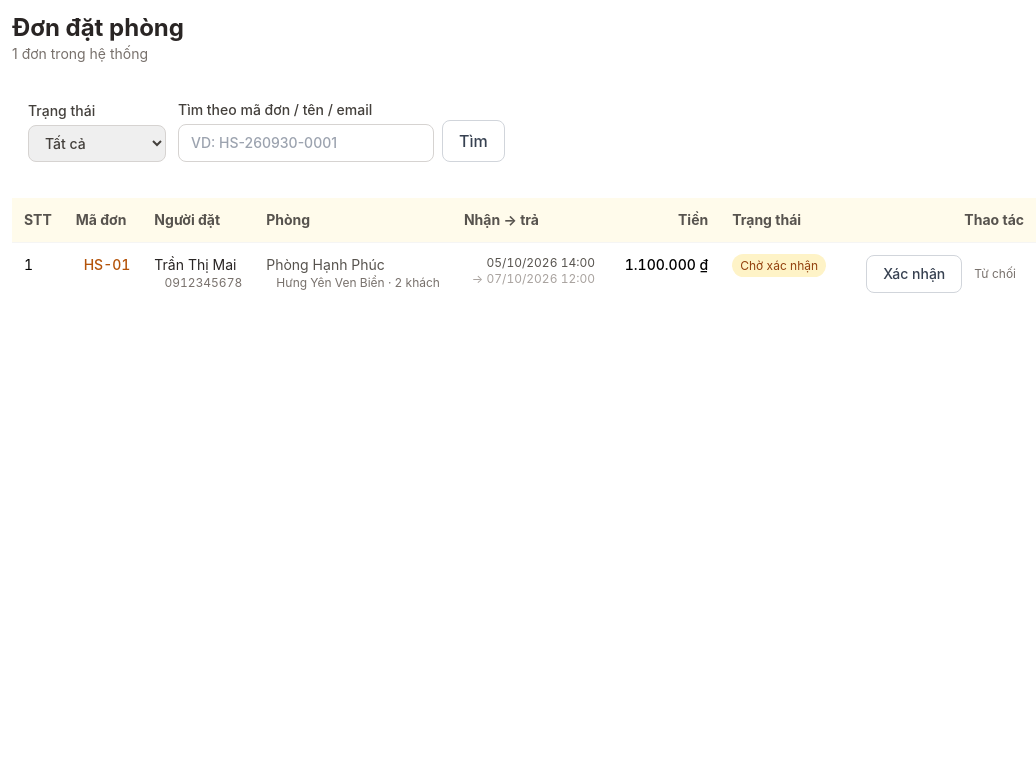
Test: AdminBookings - tu choi don › ApiThatBai_HienLoiVaGiuNguyenDanhSach
Expected: the text "HS-01" is shown, [64,242,142,305]
Click the button "Từ chối": (995,274) [966,255,1024,293]
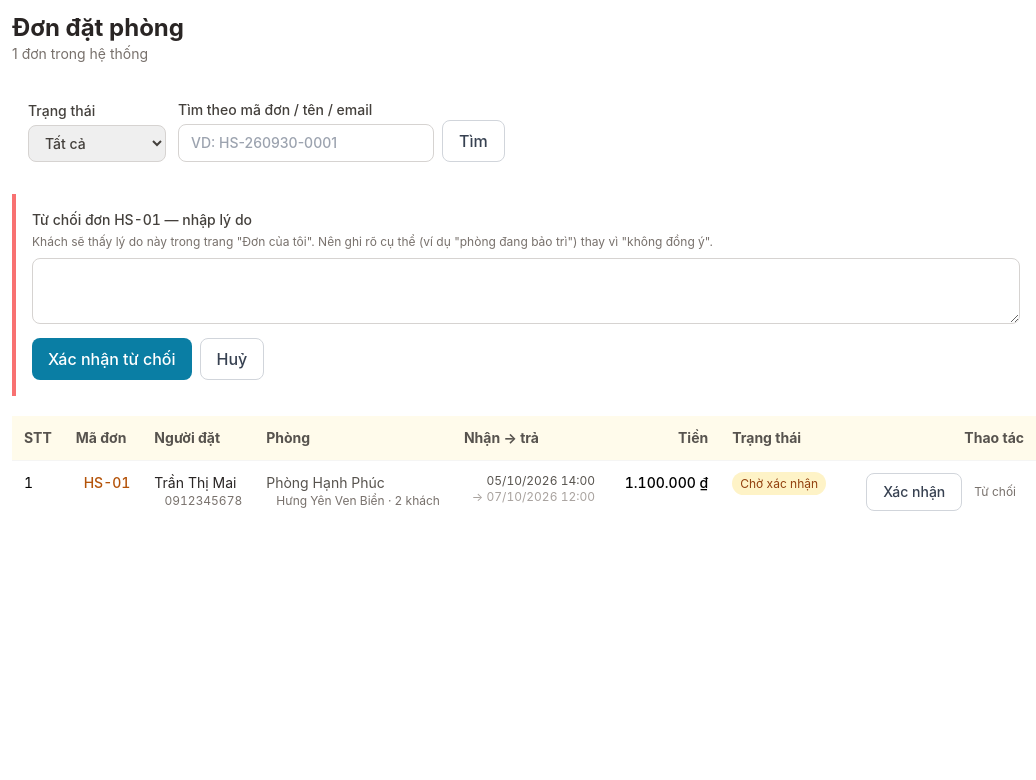
In the text box named "Lý do từ chối": (526,291) [32,258,1020,324], type "Phòng bảo trì"
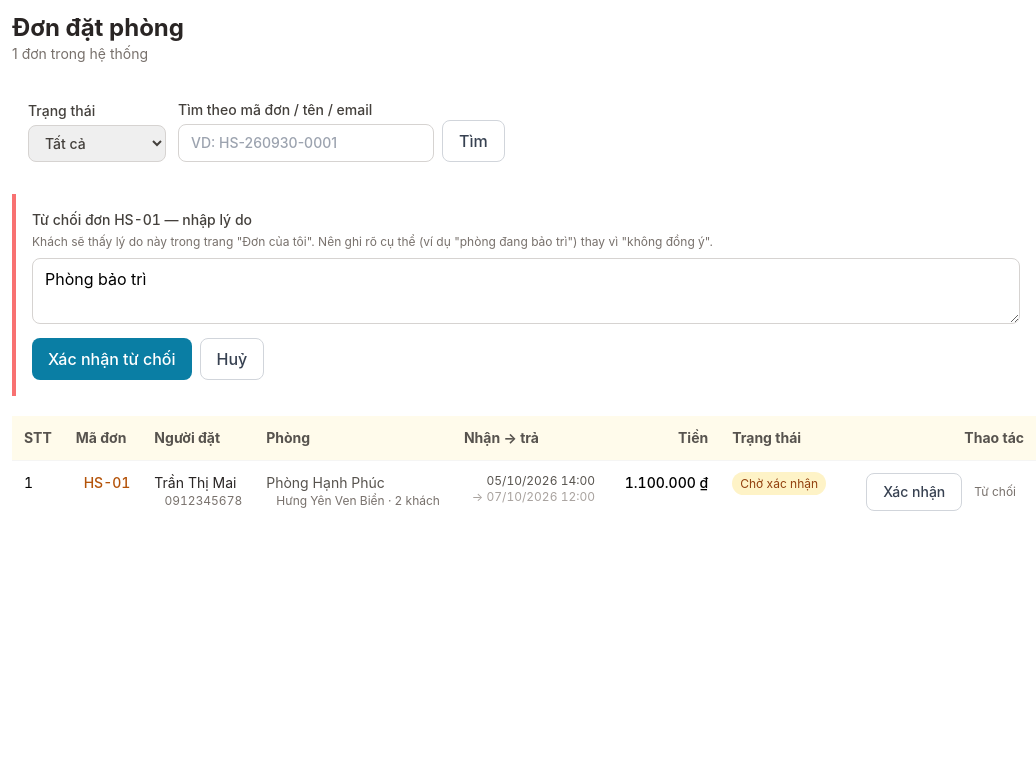
Click the button "Xác nhận từ chối": (112,359) [32,338,192,380]
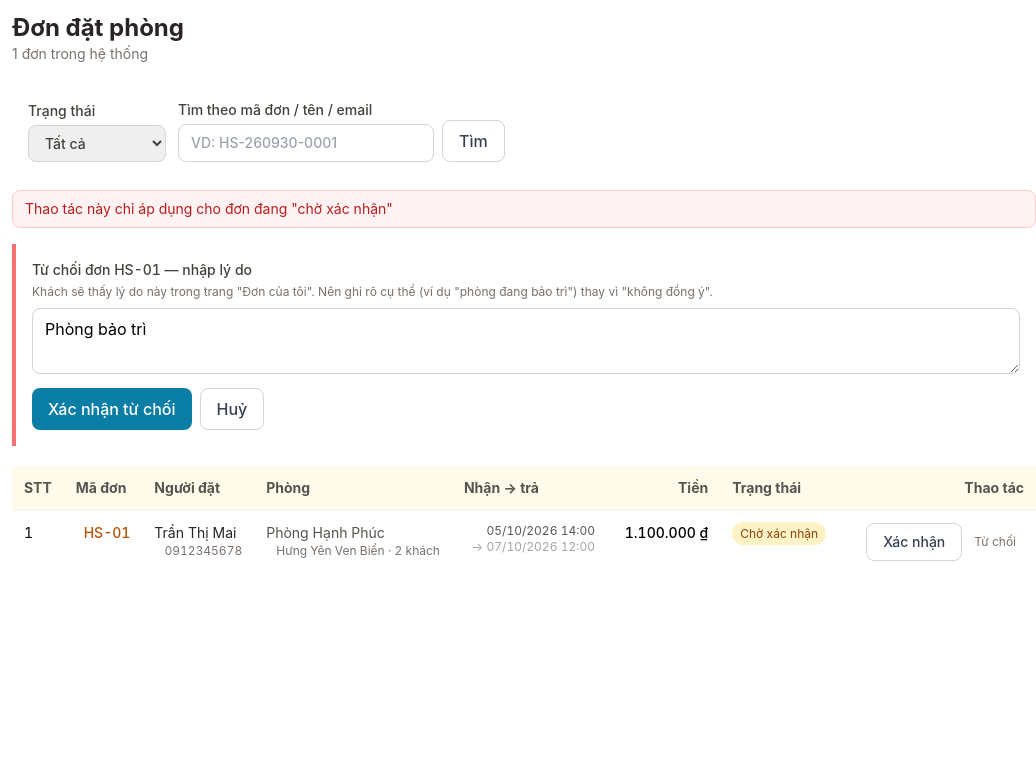
Expected: the text "HS-01" is shown, [64,510,142,573]
Expected: the text "Thao tác này chỉ áp dụng cho đơn đang \"chờ xác nhận\"" is shown, [12,190,1035,228]
